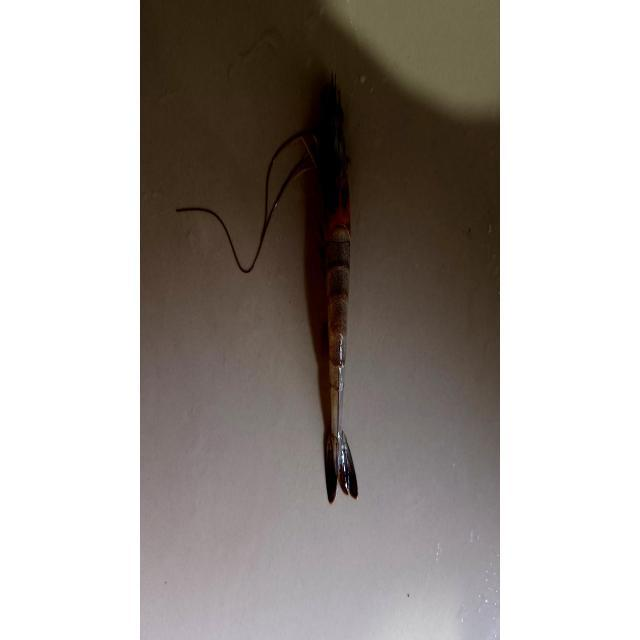shrimp: (321, 76, 358, 501)
